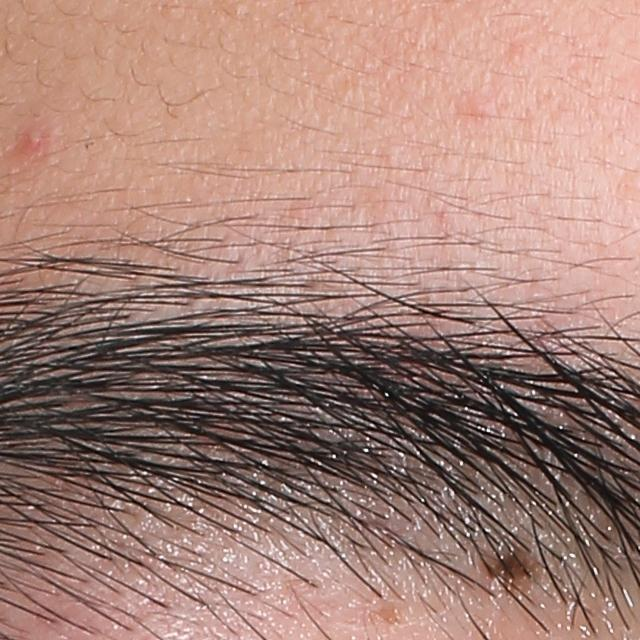nevus: (483, 543, 537, 599)
papule: (15, 126, 51, 159)
